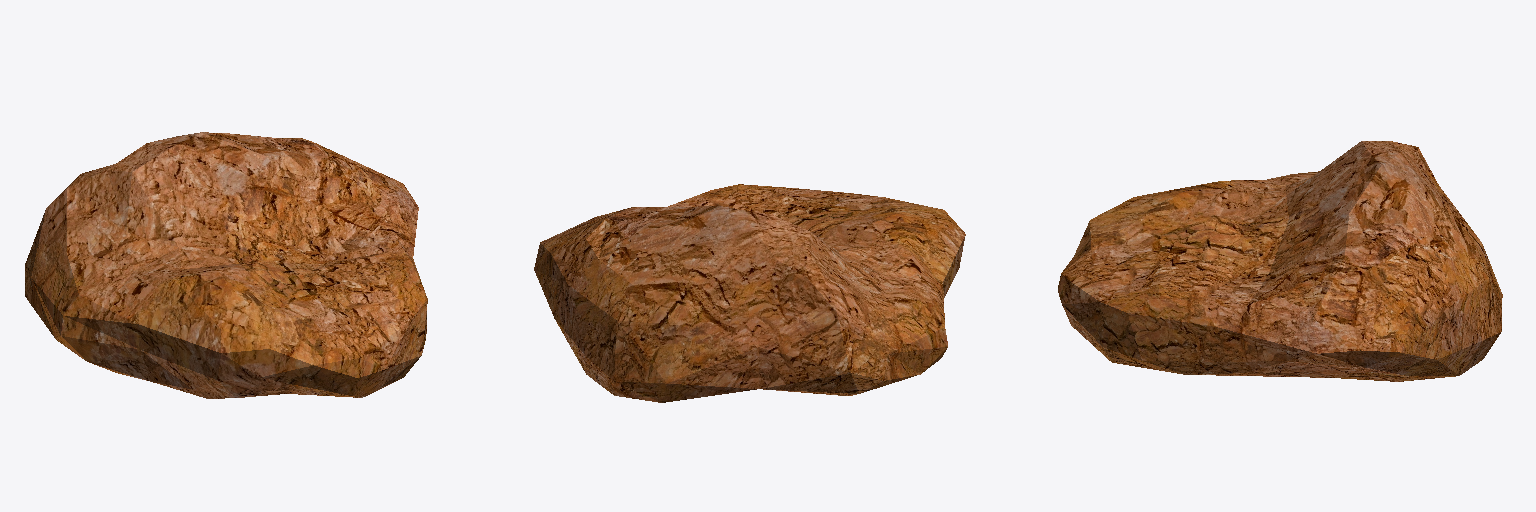
3 renders of one model, left to right at view 1: azimuth 30°, elevation 25°; view 2: azimuth 150°, elevation 25°; view 3: azimuth 270°, elevation 25°, orthographic.
Visible parts, largest first — view 1: rockflat96; view 2: rockflat96; view 3: rockflat96.
Boxes of the visible parts, x1=… form: rockflat96: x1=25, y1=132, x2=427, y2=398; rockflat96: x1=534, y1=184, x2=965, y2=402; rockflat96: x1=1058, y1=141, x2=1502, y2=381.
Size of the model in its own units: 3.09 by 1.38 by 3.17.
Materials: 1 (1 with a texture image).